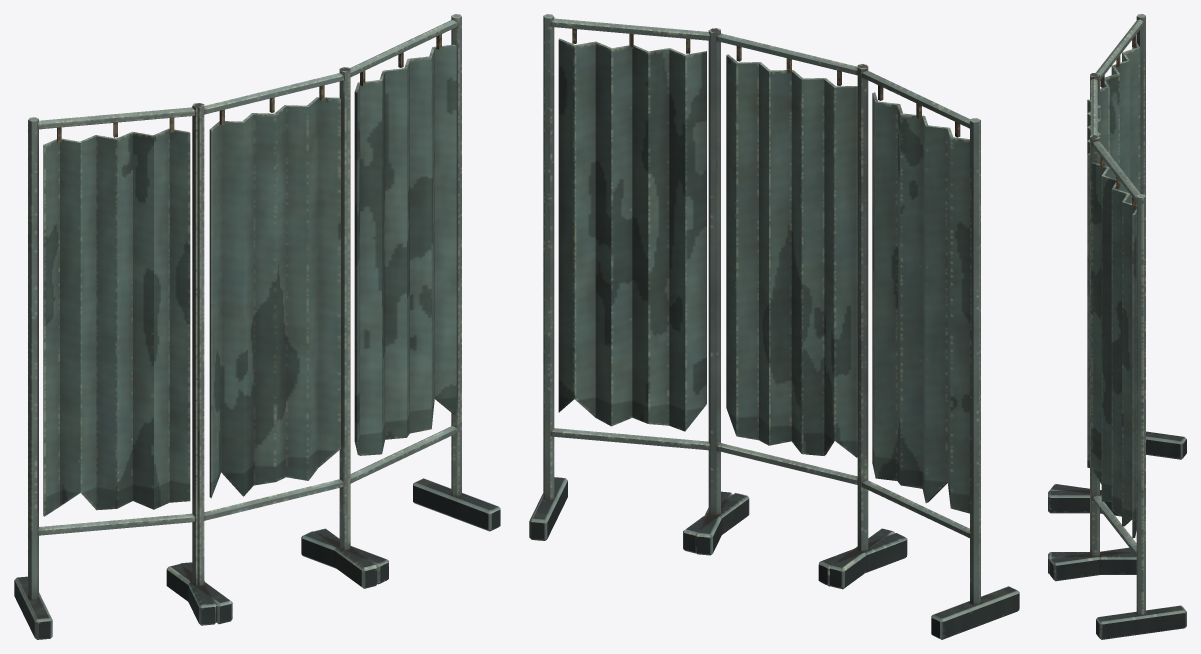
File: Biombo.glb
3 views of the same model, side by side, from view 1: azimuth 30°, elevation 25°; view 2: azimuth 150°, elevation 25°; view 3: azimuth 270°, elevation 25° (orthographic). The views are drawn at different scales.
Visible parts, largest first — view 1: Biombo; view 2: Biombo; view 3: Biombo.
Boxes of the visible parts, box(x1,y1,x2,y2) form: Biombo: box(14, 14, 500, 639); Biombo: box(529, 14, 1019, 639); Biombo: box(1048, 14, 1186, 639).
Bounding box in the file's own units: 5.61 × 5.75 × 1.66.
1 material, 1 textured.
